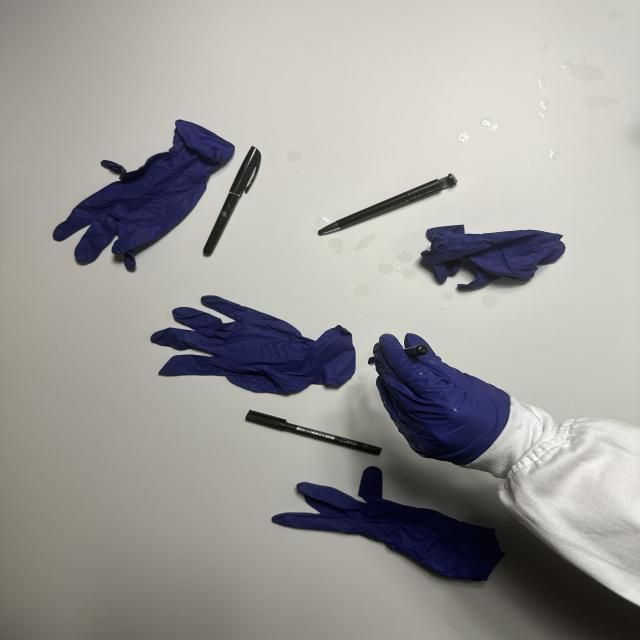gloves_contaminated: (374, 334, 509, 466)
